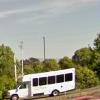Bus: (8, 70, 80, 96)
